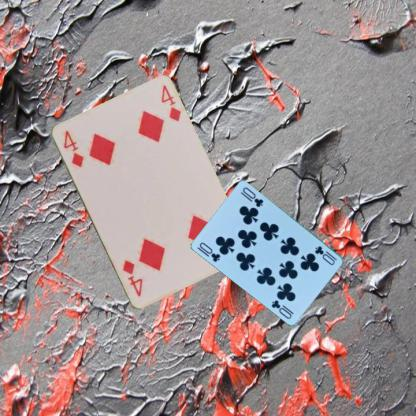10c: (312, 244, 339, 266), (197, 240, 222, 263)
4d: (60, 128, 85, 168)
